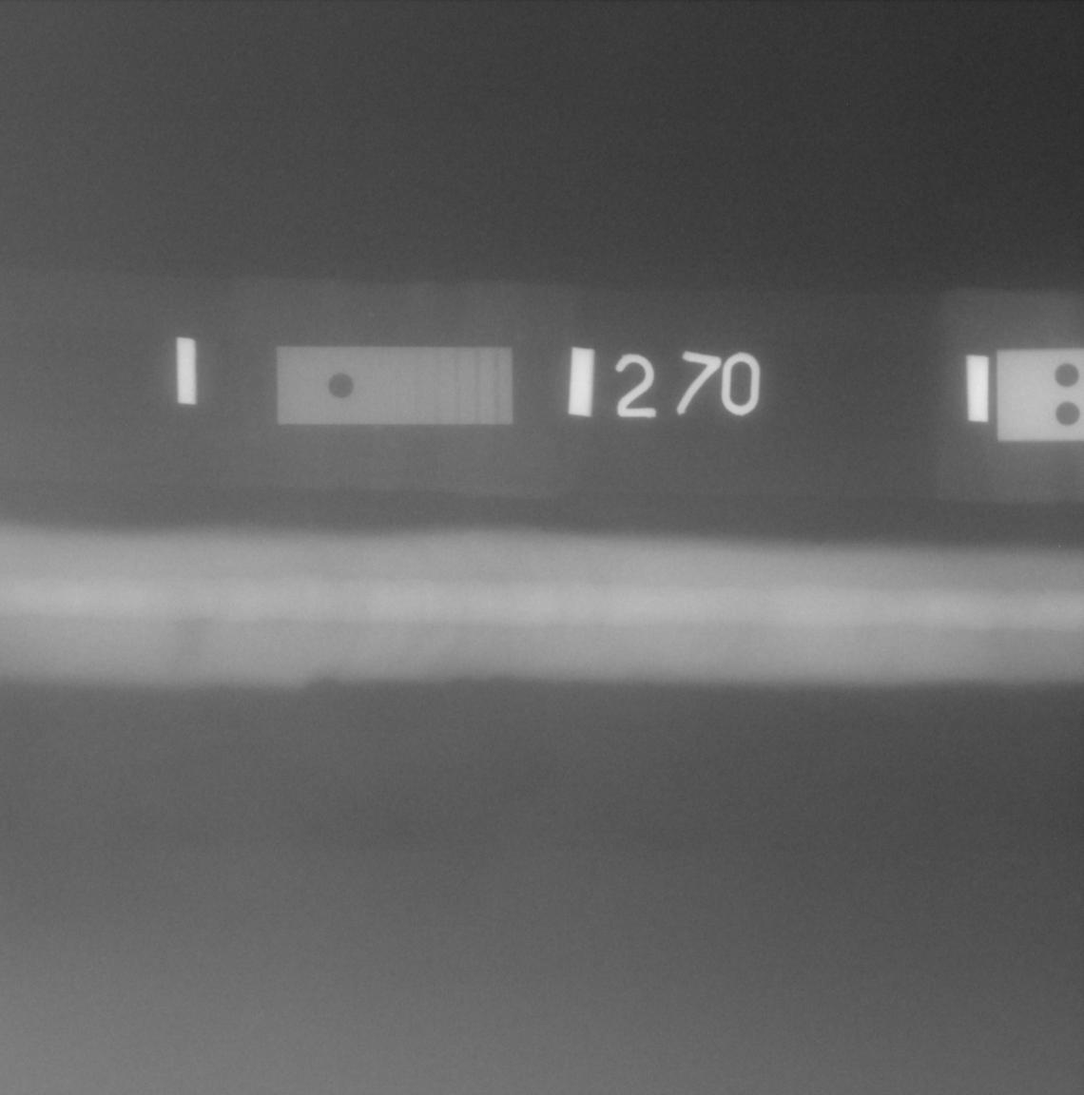Reference Standard 1: (277, 345, 514, 425)
